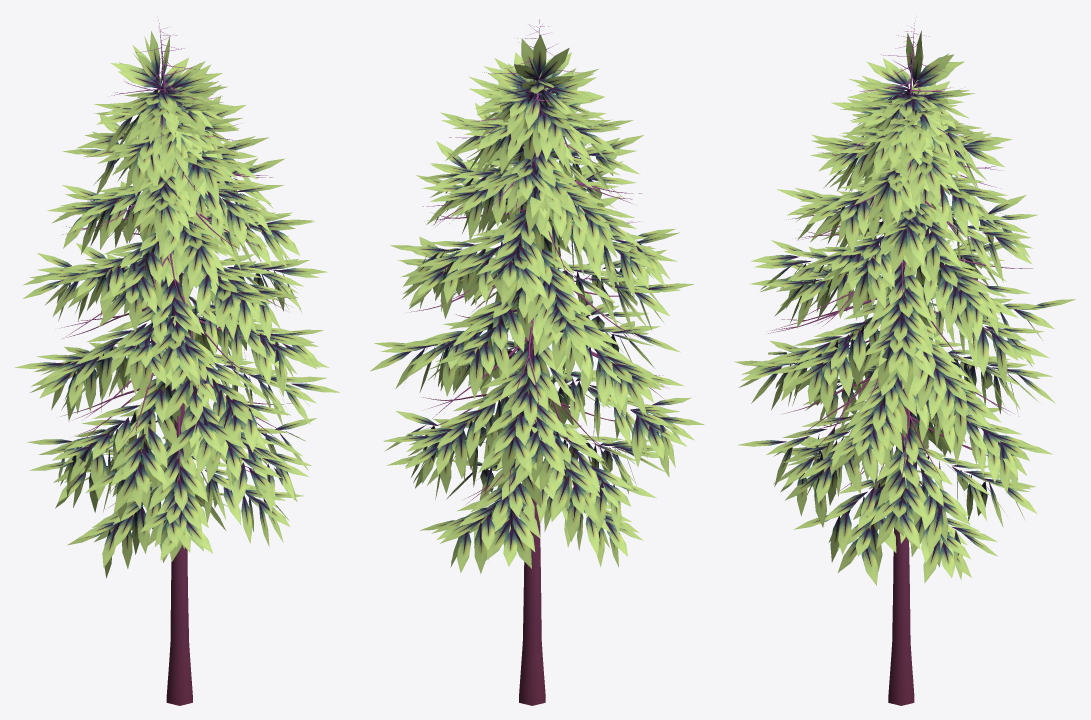
The model's file is GrowTree1.fbx.
3 views of the same model, side by side, from view 1: azimuth 30°, elevation 25°; view 2: azimuth 150°, elevation 25°; view 3: azimuth 270°, elevation 25° (orthographic). The views are drawn at different scales.
Parts seen in each view (by area): view 1: tree.005; view 2: tree.005; view 3: tree.005.
Boxes of the visible parts, box(x1,y1,x2,y2) form: tree.005: box(15, 21, 339, 705); tree.005: box(370, 19, 704, 705); tree.005: box(734, 21, 1075, 705).
Bounding box in the file's own units: 2355 × 5381 × 2465.
